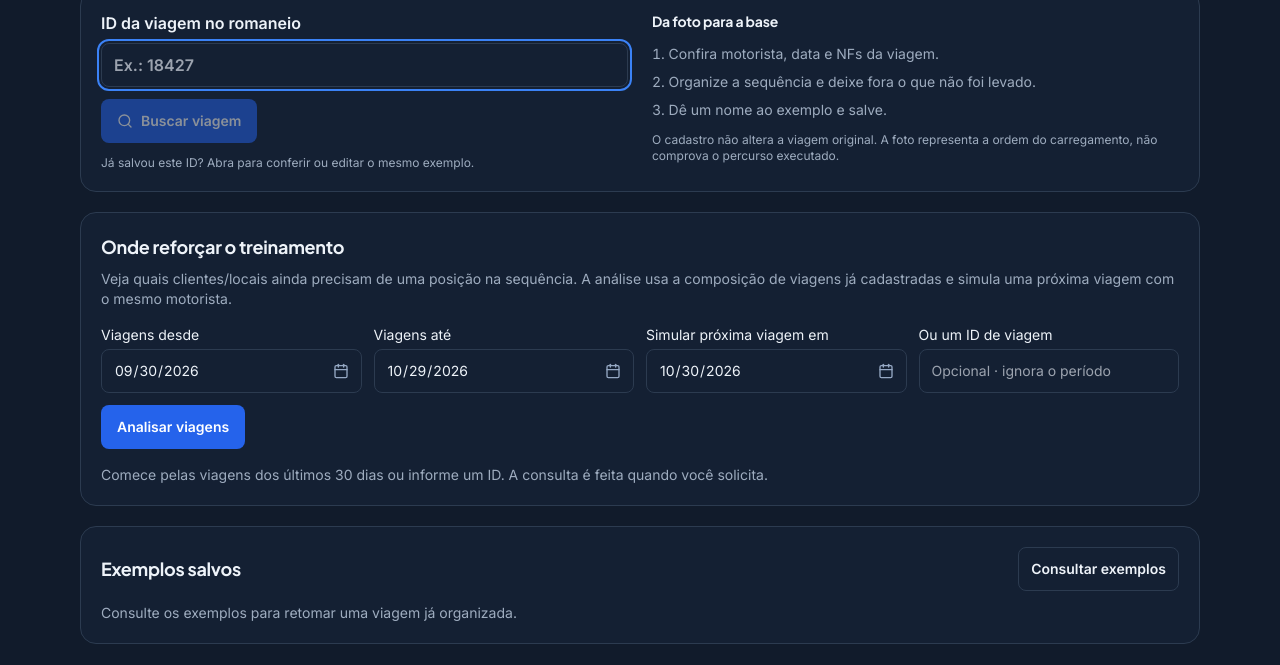
Test: falha da consulta não mostra zero exemplos; paginação mantém itens anteriores
The image size is (1280, 665).
(page scrolled)
Click the button "Consultar exemplos" at (1099, 569), box [1018,547,1179,591]
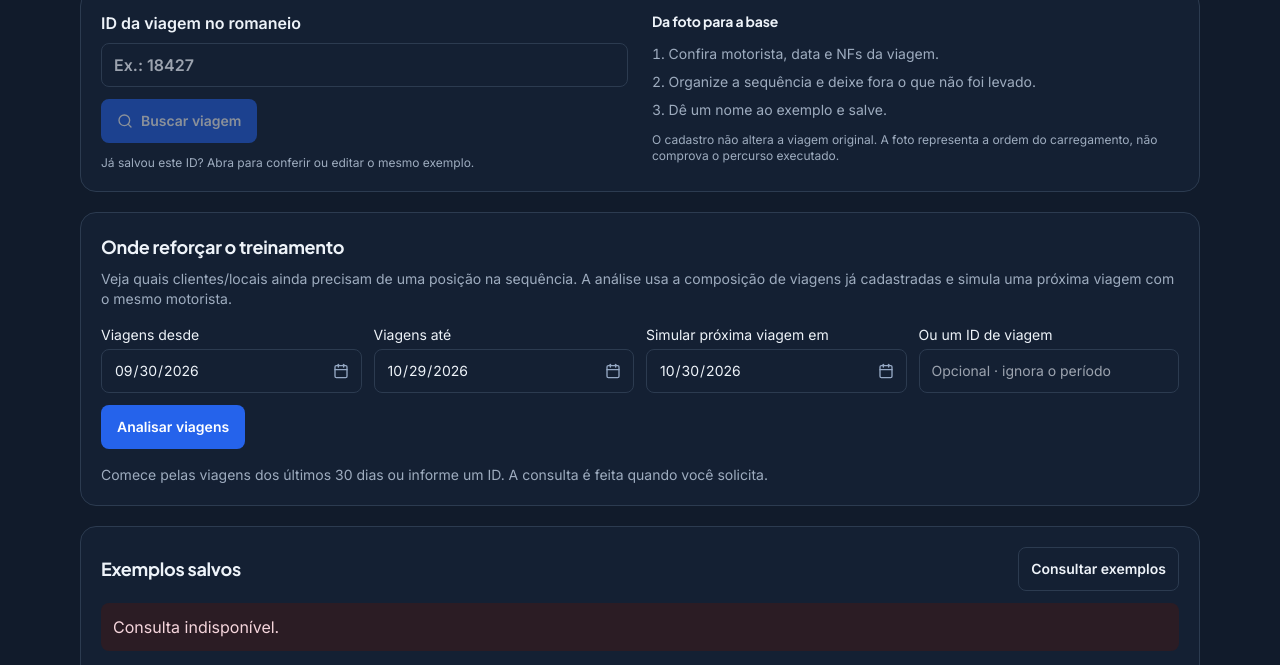
Now the text "Consulta indisponível." is shown, box [101,603,1179,651]
Click the button "Consultar exemplos" at (1099, 569), box [1018,547,1179,591]
(page scrolled)
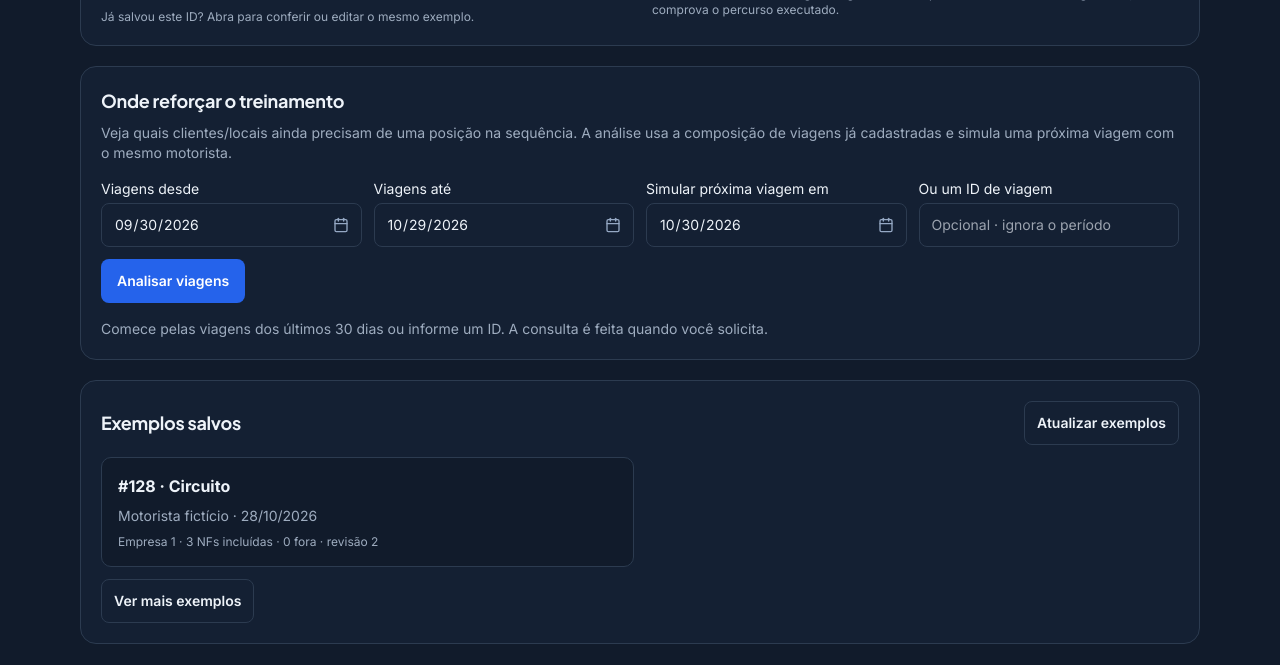
Now the button with aria-label "Editar viagem 128" is shown, box [101,457,634,567]
Click the button "Ver mais exemplos" at (178, 601), box [101,579,254,623]
(page scrolled)
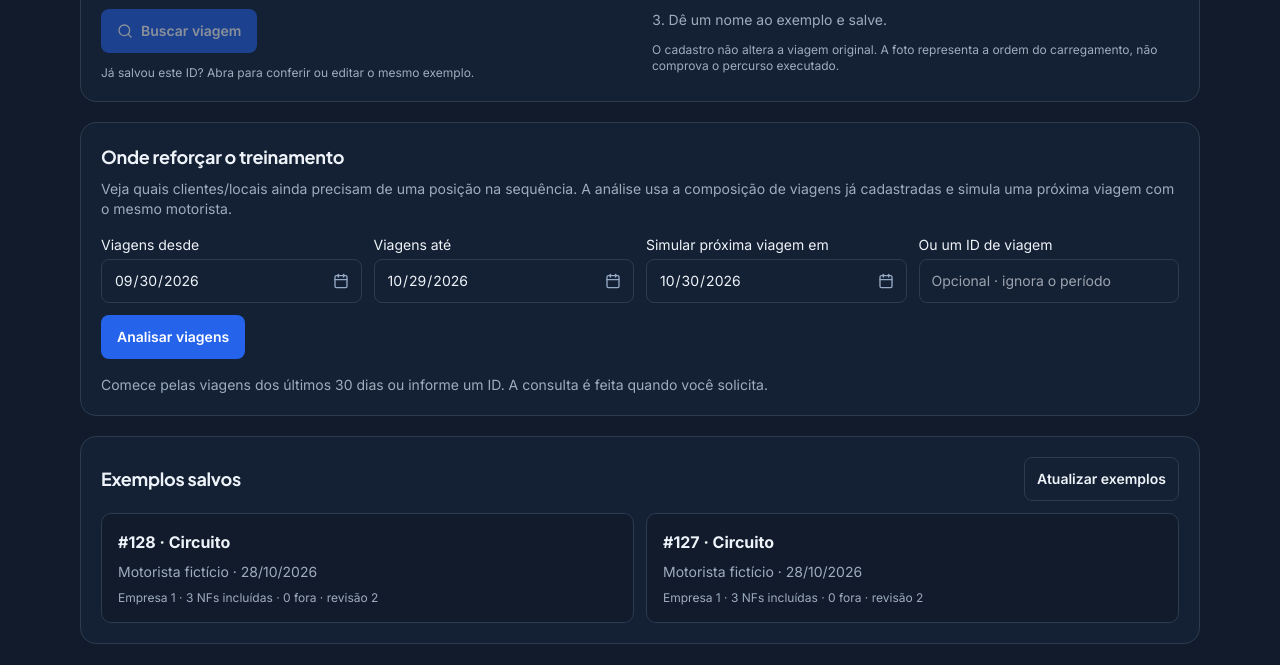
Now the button with aria-label "Editar viagem 128" is shown, box [101,513,634,623]
Now the button with aria-label "Editar viagem 127" is shown, box [646,513,1179,623]
